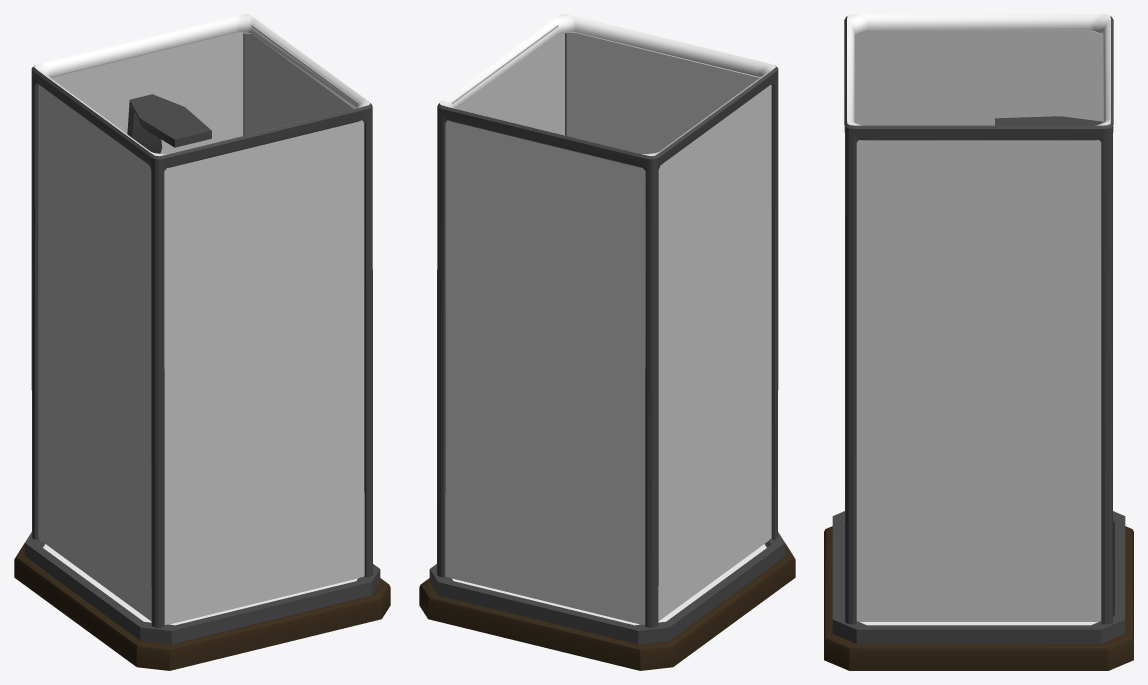
The model's file is Ducha.fbx.
The picture shows the model from 3 angles, left to right: view 1: azimuth 30°, elevation 25°; view 2: azimuth 150°, elevation 25°; view 3: azimuth 270°, elevation 25°; orthographic projection. The views are drawn at different scales.
Parts seen in each view (by area): view 1: Ducha; view 2: Ducha; view 3: Ducha.
Boxes of the visible parts, bbox=[...] form: Ducha: bbox=[14, 14, 390, 670]; Ducha: bbox=[419, 14, 795, 670]; Ducha: bbox=[824, 14, 1133, 670].
Size of the model in its own units: 94.65 by 180 by 94.65.
